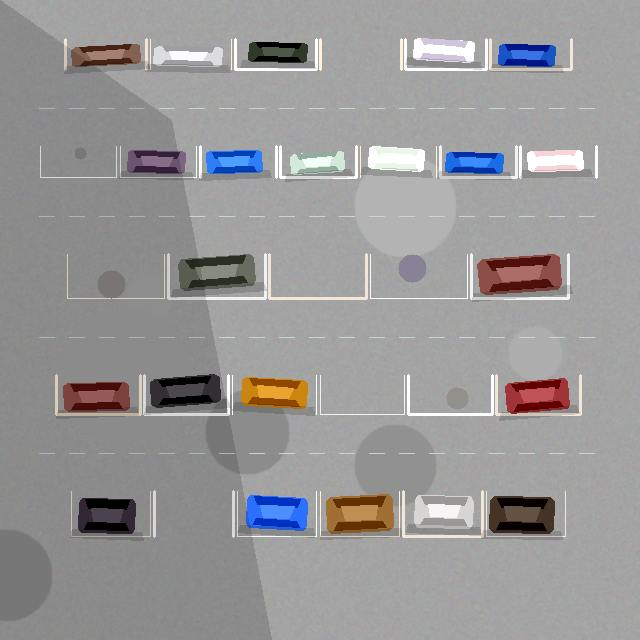space-empty: (67, 254, 164, 298), (269, 254, 366, 298), (370, 254, 467, 298), (154, 491, 233, 536), (320, 375, 404, 414), (408, 375, 492, 414), (320, 39, 401, 69), (40, 146, 116, 177)
space-occupied: (168, 254, 265, 298), (471, 254, 568, 298), (71, 491, 150, 536), (237, 491, 316, 536), (320, 491, 399, 536), (403, 491, 482, 536), (486, 491, 565, 536), (56, 375, 140, 414), (144, 375, 228, 414), (232, 375, 316, 414), (496, 375, 580, 414), (65, 39, 146, 69), (150, 39, 231, 69), (235, 39, 316, 69), (405, 39, 486, 69), (490, 39, 571, 69), (120, 146, 196, 177), (200, 146, 276, 177), (280, 146, 356, 177), (360, 146, 436, 177), (440, 146, 516, 177), (520, 146, 596, 177)
